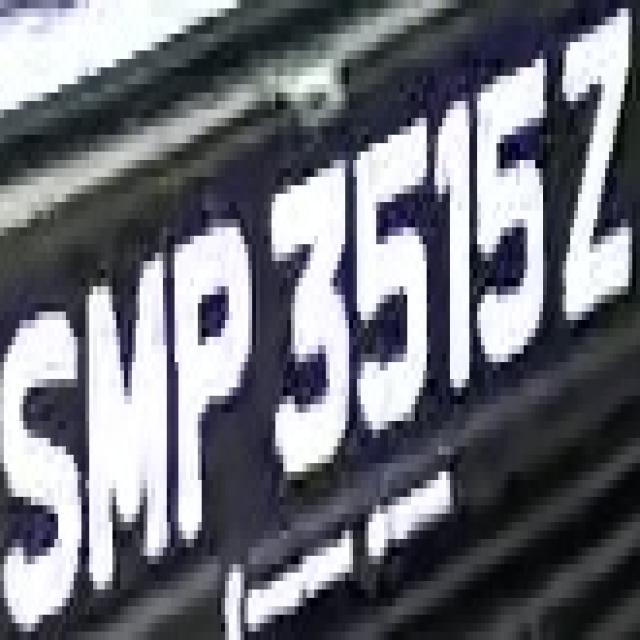1: (423, 59, 489, 413)
3: (264, 110, 357, 472)
5: (338, 110, 430, 447), (473, 59, 551, 396)
M: (81, 219, 170, 615)
P: (163, 185, 256, 564)
S: (4, 261, 81, 640)
Z: (551, 17, 640, 328)
